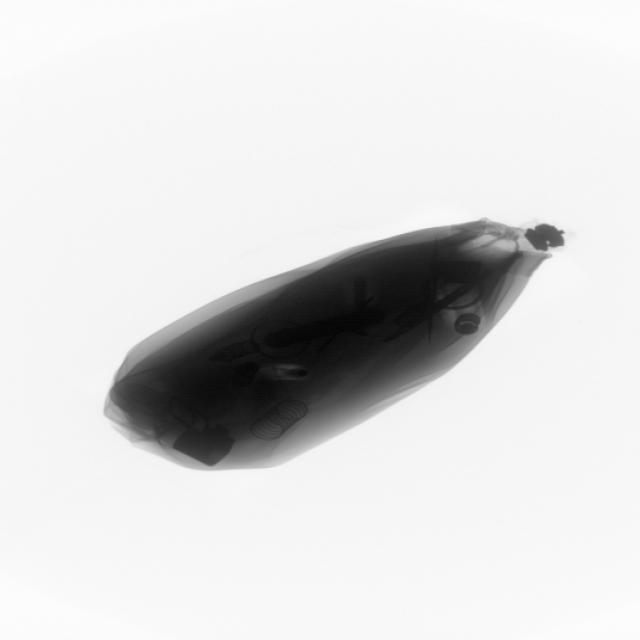BLADE: (417, 258, 446, 337)
GUN: (259, 301, 385, 349)
